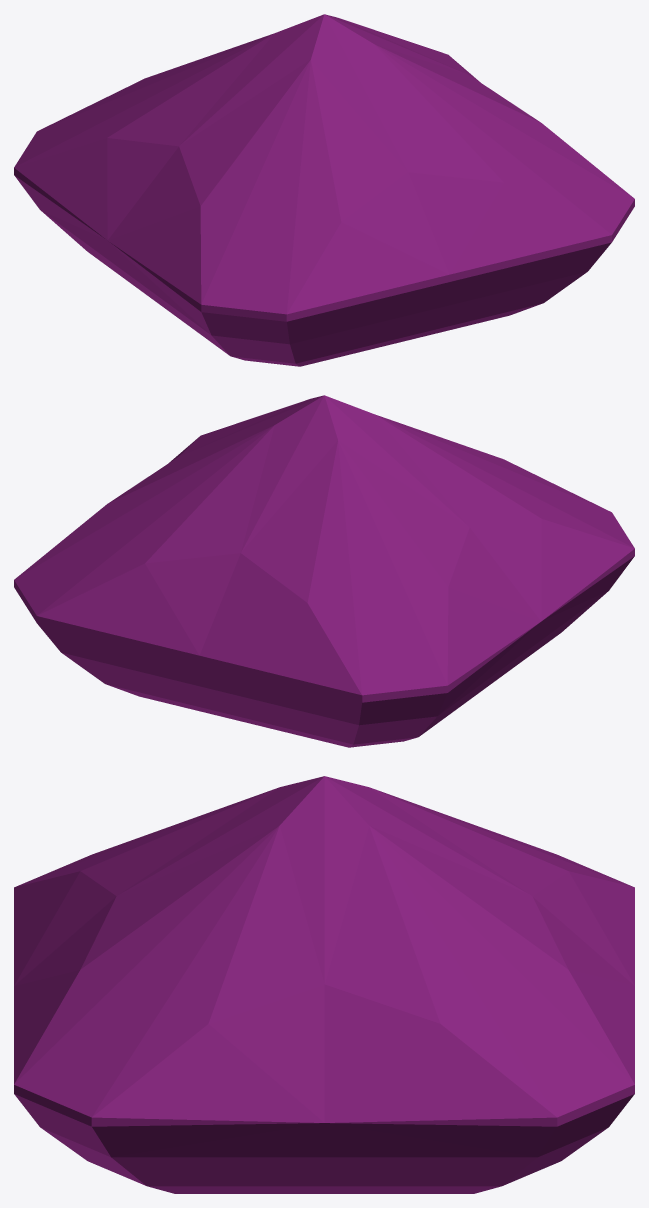
The model's file is Gem000.fbx.
3 renders of one model, top to bottom at view 1: azimuth 30°, elevation 25°; view 2: azimuth 150°, elevation 25°; view 3: azimuth 270°, elevation 25°, orthographic. The views are drawn at different scales.
Parts seen in each view (by area): view 1: Gem000; view 2: Gem000; view 3: Gem000.
Part boxes in pixels (x1,y1,x2,y2): Gem000: (14,14,634,366); Gem000: (14,395,634,747); Gem000: (14,776,634,1193).
Bounding box in the file's own units: 248 × 146 × 247.
